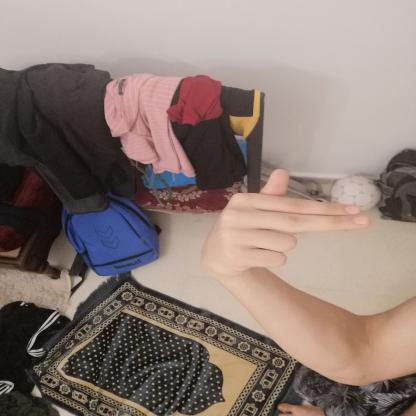GHAYN: (192, 161, 379, 289)
